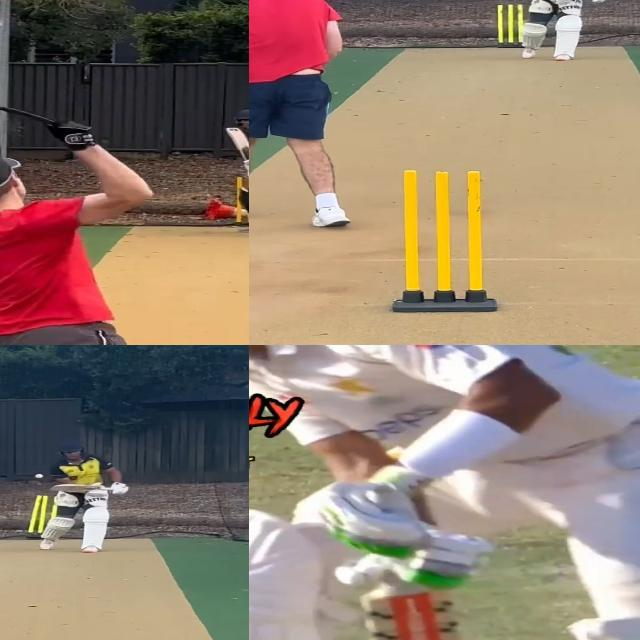Cricket ball: (34, 472, 44, 480)
Stumps: (392, 168, 494, 313), (23, 496, 58, 540), (495, 4, 526, 49)
